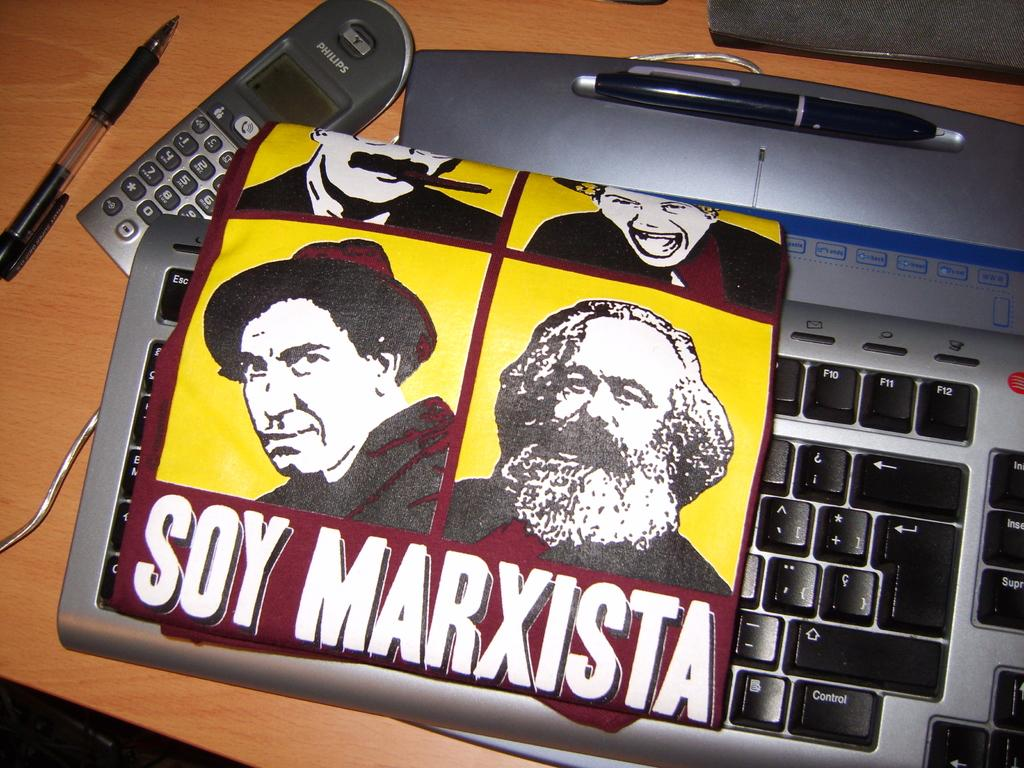Computer-keyboard: (54, 213, 1023, 765)
